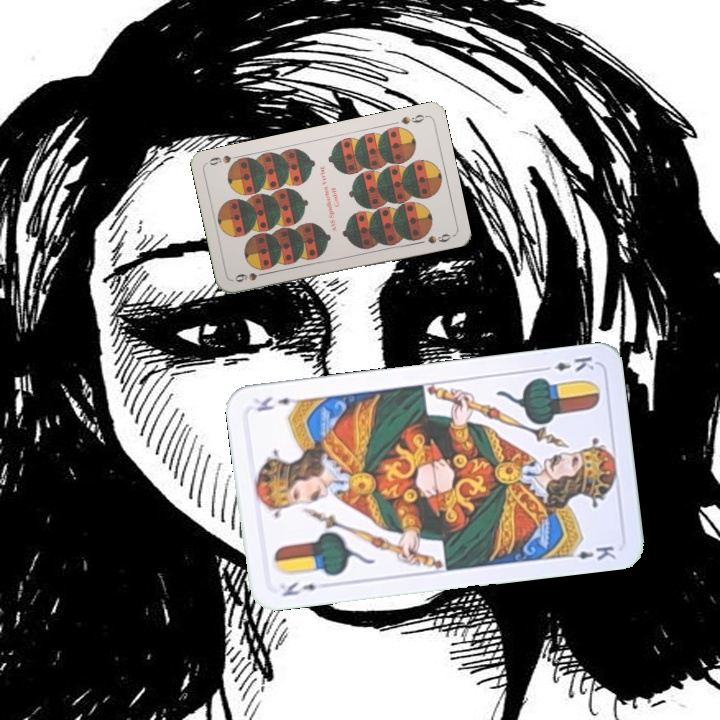EK: (537, 352, 597, 374), (278, 578, 319, 599)
S9: (231, 268, 270, 285), (397, 110, 430, 127)
